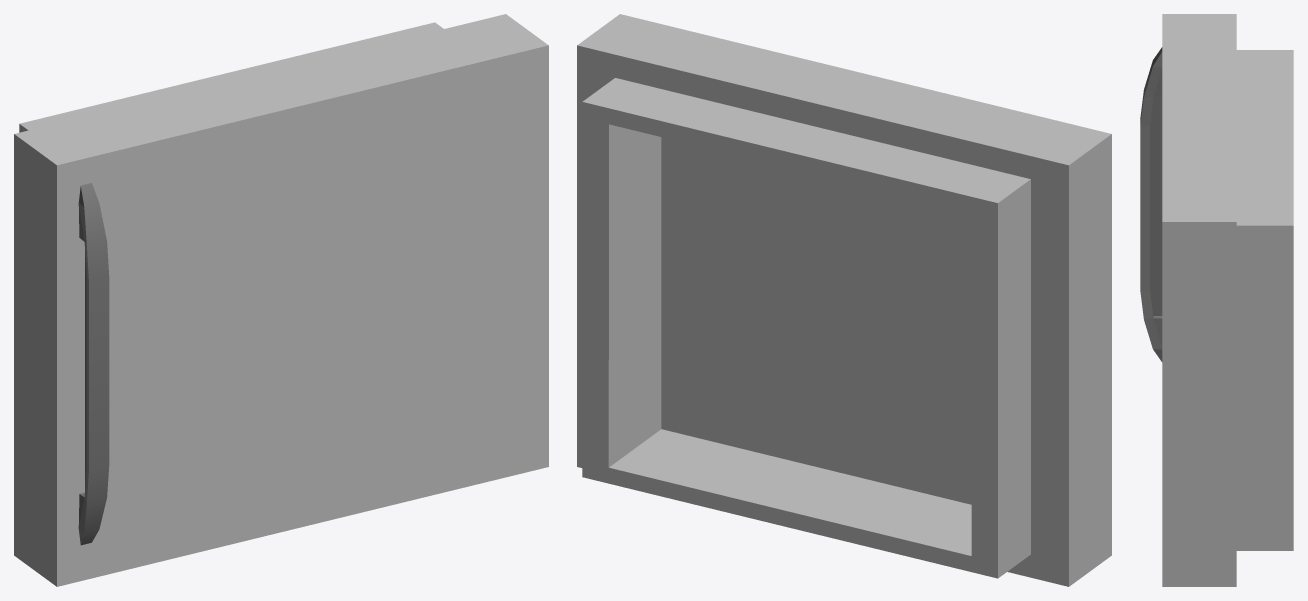
The model's file is Itr_Obj_Fridge2_Bottom_Door_01.FBX.
3 renders of one model, left to right at view 1: azimuth 30°, elevation 25°; view 2: azimuth 150°, elevation 25°; view 3: azimuth 270°, elevation 25°, orthographic. The views are drawn at different scales.
Visible parts, largest first — view 1: Itr_Obj_Fridge2_Bottom_Door_01; view 2: Itr_Obj_Fridge2_Bottom_Door_01; view 3: Itr_Obj_Fridge2_Bottom_Door_01.
Boxes of the visible parts, <box> form: Itr_Obj_Fridge2_Bottom_Door_01: <box>14,14,548,586</box>; Itr_Obj_Fridge2_Bottom_Door_01: <box>577,14,1111,586</box>; Itr_Obj_Fridge2_Bottom_Door_01: <box>1140,14,1293,586</box>.
Bounding box in the file's own units: 34.44 × 28.21 × 10.74.
